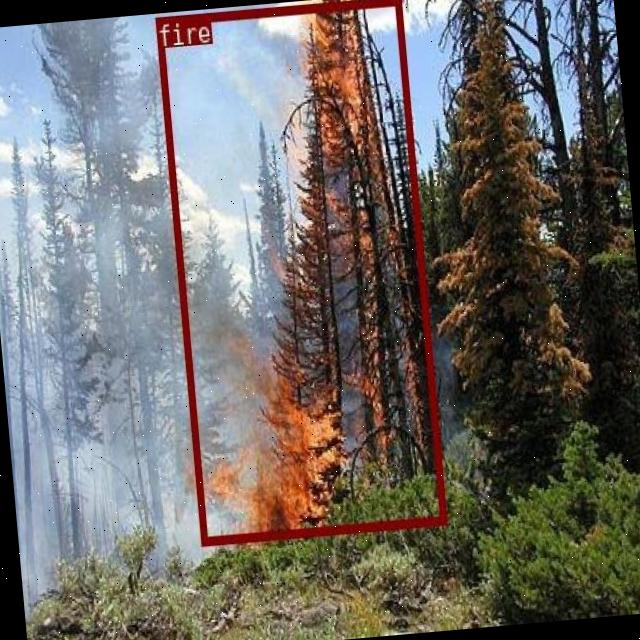fire: (154, 0, 445, 543)
